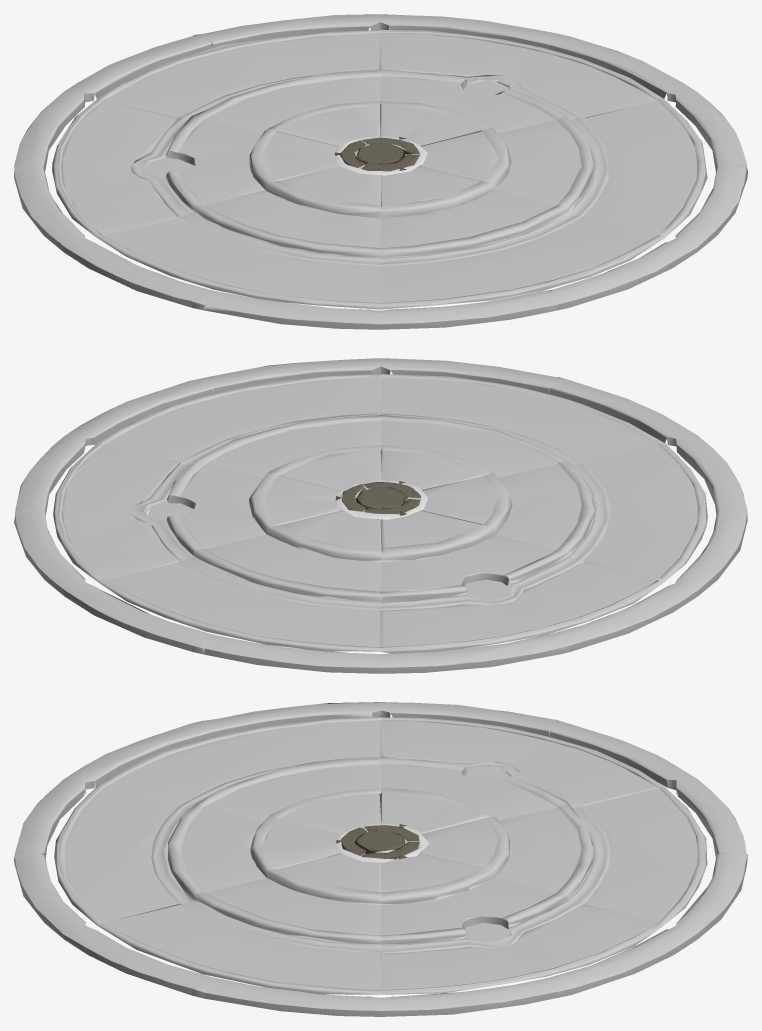
3 renders of one model, top to bottom at view 1: azimuth 30°, elevation 25°; view 2: azimuth 150°, elevation 25°; view 3: azimuth 270°, elevation 25°, orthographic.
Parts seen in each view (by area): view 1: PODIUM.lod; view 2: PODIUM.lod; view 3: PODIUM.lod.
Part boxes in pixels (box(x1,y1,x2,y2)): PODIUM.lod: box(14, 14, 747, 329); PODIUM.lod: box(14, 358, 747, 673); PODIUM.lod: box(14, 702, 747, 1016).
Size of the model in its own units: 78165 by 2683 by 78479.
